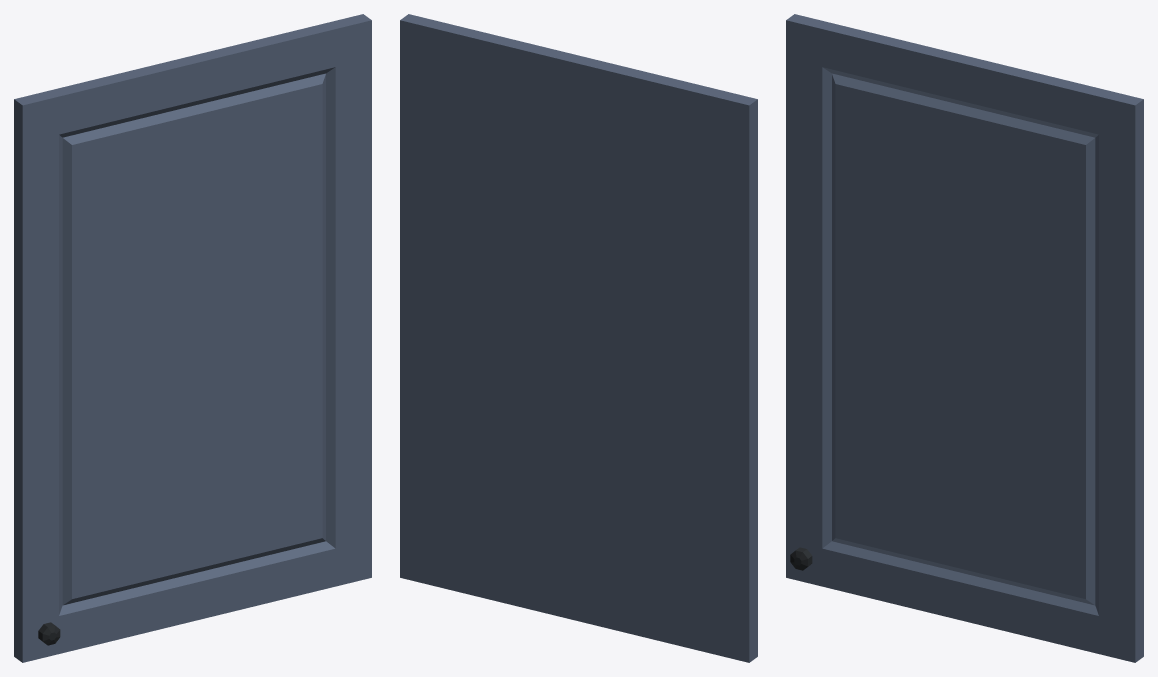
The model's file is Door3_C4_11.fbx.
3 renders of one model, left to right at view 1: azimuth 30°, elevation 25°; view 2: azimuth 150°, elevation 25°; view 3: azimuth 330°, elevation 25°, orthographic.
Parts seen in each view (by area): view 1: Door3_C4_11; view 2: Door3_C4_11; view 3: Door3_C4_11.
Part boxes in pixels (box(x1,y1,x2,y2)): Door3_C4_11: box(14, 14, 371, 662); Door3_C4_11: box(400, 14, 757, 662); Door3_C4_11: box(786, 14, 1143, 662).
Bounding box in the file's own units: 59 × 90 × 5.19.
